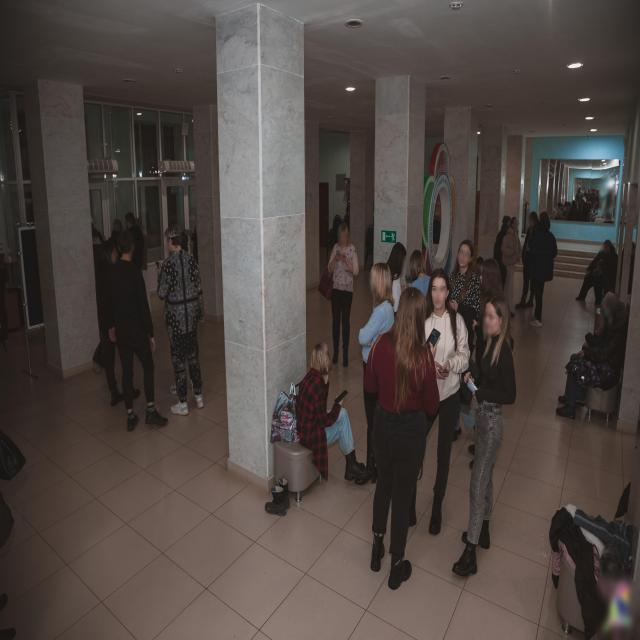Person: (355, 295, 440, 600), (450, 299, 524, 585), (290, 341, 370, 494), (353, 263, 399, 487), (118, 216, 156, 454), (167, 223, 200, 426), (319, 215, 362, 366), (92, 242, 126, 417), (529, 210, 560, 330), (578, 233, 623, 302), (124, 199, 150, 312), (491, 211, 515, 320), (501, 212, 522, 323), (448, 240, 479, 314), (405, 244, 436, 314), (383, 238, 413, 304), (524, 210, 538, 311), (109, 213, 123, 247)
